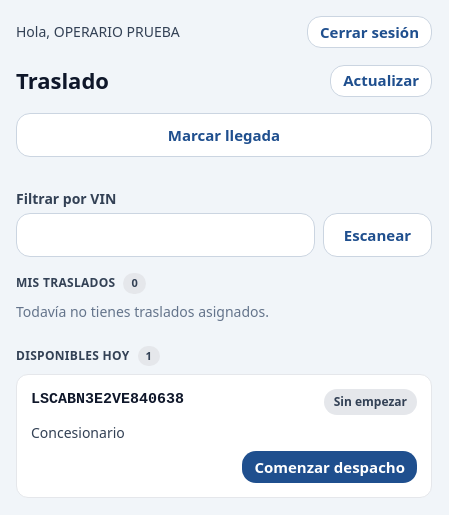
el botón «Marcar llegada» › abre la pantalla de llegada, que reemplaza a la home
Expected: the text "LSCABN3E2VE840638" is shown, [31,389,184,412]
What coordinates should you click on to do the following:
click the button "Marcar llegada"
I would click on:
 (224, 135)
Its box is [16,113,432,157].
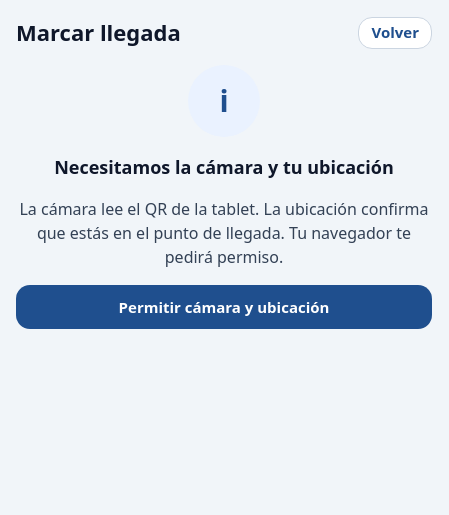
Now the heading "Marcar llegada" is shown, box [16,16,181,49]
Now the heading "Necesitamos la cámara y tu ubicación" is shown, box [54,153,394,181]
Now the text "LSCABN3E2VE840638" is gone
